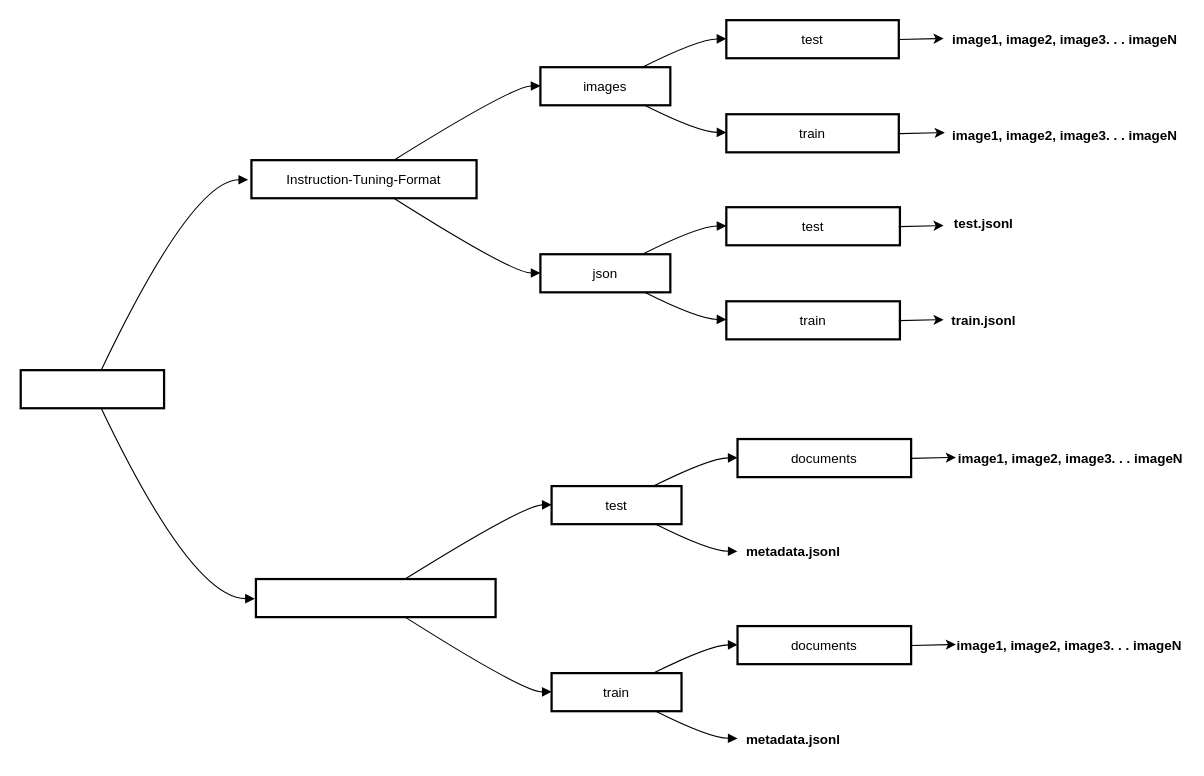
Some shapes in this 1204 by 776 pixel diagram are drawn without their labels. Each missing label, with the box of its shape:
Question-Answering-Format: (254, 577, 496, 618)
TabComp: (19, 368, 165, 409)
